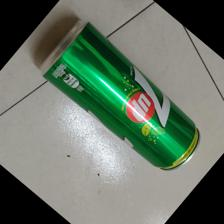7up: (40, 20, 201, 171)
